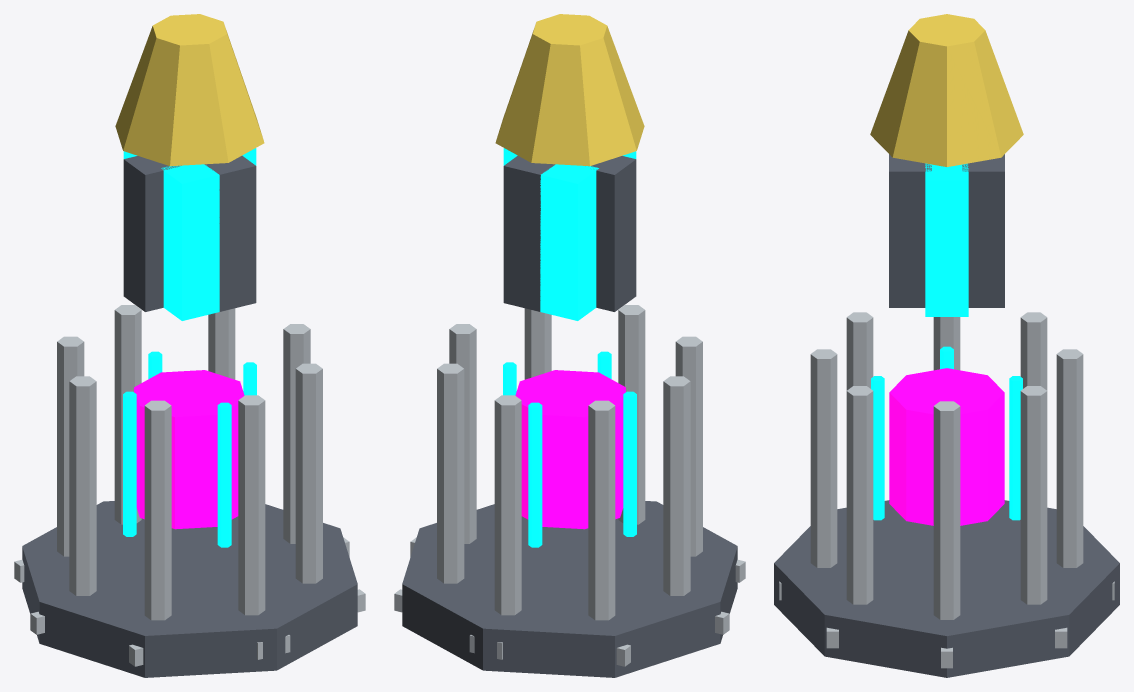
File: cyber_reactor.glb
3 views of the same model, side by side, from view 1: azimuth 30°, elevation 25°; view 2: azimuth 150°, elevation 25°; view 3: azimuth 270°, elevation 25° (orthographic).
Parts seen in each view (by area): view 1: Octagonal_Base_Slab, Gold_Spire_Crown, Core_Plasma_Crystal, Upper_Spire_Segment_5, Upper_Spire_Segment_4, Reactor_Pillar_6, Reactor_Pillar_7, Reactor_Pillar_8, Reactor_Pillar_5, Upper_Spire_Segment_6, Reactor_Pillar_3, Reactor_Pillar_4 (+4 smaller); view 2: Octagonal_Base_Slab, Gold_Spire_Crown, Core_Plasma_Crystal, Upper_Spire_Segment_3, Reactor_Pillar_4, Reactor_Pillar_2, Reactor_Pillar_3, Reactor_Pillar_5, Upper_Spire_Segment_4, Upper_Spire_Segment_2, Reactor_Pillar_7, Reactor_Pillar_6 (+4 smaller); view 3: Octagonal_Base_Slab, Gold_Spire_Crown, Core_Plasma_Crystal, Upper_Spire_Segment_1, Reactor_Pillar_1, Reactor_Pillar_2, Reactor_Pillar_3, Reactor_Pillar_7, Reactor_Pillar_8, Upper_Spire_Segment_2, Upper_Spire_Segment_6, Reactor_Pillar_4 (+4 smaller).
Part boxes in pixels (x1=…): Octagonal_Base_Slab: x1=22, y1=501, x2=357, y2=677; Gold_Spire_Crown: x1=115, y1=14, x2=264, y2=166; Core_Plasma_Crystal: x1=134, y1=370, x2=244, y2=529; Upper_Spire_Segment_5: x1=161, y1=164, x2=219, y2=320; Upper_Spire_Segment_4: x1=123, y1=156, x2=181, y2=311; Reactor_Pillar_6: x1=144, y1=400, x2=171, y2=620; Reactor_Pillar_7: x1=238, y1=395, x2=265, y2=615; Reactor_Pillar_8: x1=295, y1=363, x2=322, y2=583; Reactor_Pillar_5: x1=69, y1=376, x2=96, y2=595; Upper_Spire_Segment_6: x1=204, y1=155, x2=256, y2=311; Reactor_Pillar_3: x1=114, y1=305, x2=141, y2=524; Reactor_Pillar_4: x1=57, y1=336, x2=84, y2=556; Octagonal_Base_Slab: x1=402, y1=501, x2=737, y2=677; Gold_Spire_Crown: x1=495, y1=14, x2=644, y2=166; Core_Plasma_Crystal: x1=515, y1=370, x2=625, y2=529; Upper_Spire_Segment_3: x1=540, y1=164, x2=598, y2=320; Reactor_Pillar_4: x1=588, y1=400, x2=615, y2=620; Reactor_Pillar_2: x1=437, y1=363, x2=464, y2=583; Reactor_Pillar_3: x1=494, y1=395, x2=521, y2=615; Reactor_Pillar_5: x1=663, y1=376, x2=690, y2=595; Upper_Spire_Segment_4: x1=591, y1=156, x2=636, y2=311; Upper_Spire_Segment_2: x1=503, y1=155, x2=555, y2=311; Reactor_Pillar_7: x1=618, y1=305, x2=645, y2=524; Reactor_Pillar_6: x1=675, y1=336, x2=702, y2=556; Octagonal_Base_Slab: x1=774, y1=500, x2=1119, y2=677; Gold_Spire_Crown: x1=870, y1=14, x2=1023, y2=166; Core_Plasma_Crystal: x1=889, y1=368, x2=1004, y2=525; Upper_Spire_Segment_1: x1=925, y1=163, x2=968, y2=316; Reactor_Pillar_1: x1=933, y1=401, x2=960, y2=619; Reactor_Pillar_2: x1=1020, y1=386, x2=1047, y2=604; Reactor_Pillar_3: x1=1056, y1=349, x2=1083, y2=567; Reactor_Pillar_7: x1=810, y1=349, x2=837, y2=567; Reactor_Pillar_8: x1=846, y1=386, x2=873, y2=604; Upper_Spire_Segment_2: x1=962, y1=154, x2=1004, y2=307; Upper_Spire_Segment_6: x1=889, y1=154, x2=931, y2=307; Reactor_Pillar_4: x1=1020, y1=312, x2=1047, y2=390.
Bounding box in the file's own units: 9.36 × 16.5 × 9.
